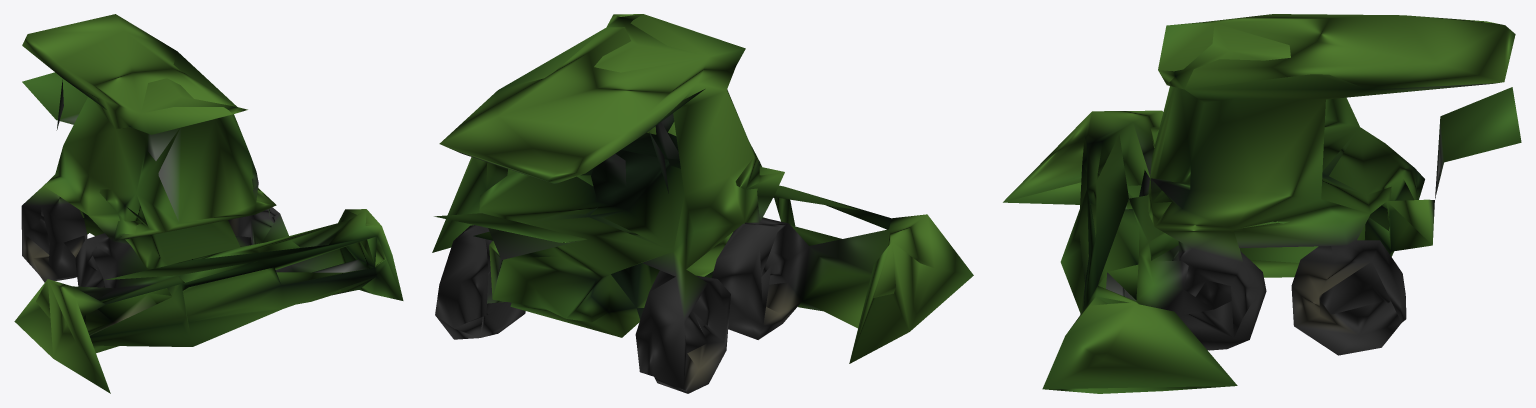
Rendered from gen3d-combine-harvester-lod1.glb.
3 renders of one model, left to right at view 1: azimuth 30°, elevation 25°; view 2: azimuth 150°, elevation 25°; view 3: azimuth 270°, elevation 25°, orthographic. The views are drawn at different scales.
Parts seen in each view (by area): view 1: part_0; view 2: part_0; view 3: part_0.
Boxes of the visible parts, box(x1,y1,x2,y2) form: part_0: box(14, 14, 403, 393); part_0: box(432, 14, 973, 393); part_0: box(1003, 14, 1521, 393).
Size of the model in its own units: 1.64 by 0.9991 by 1.81.
